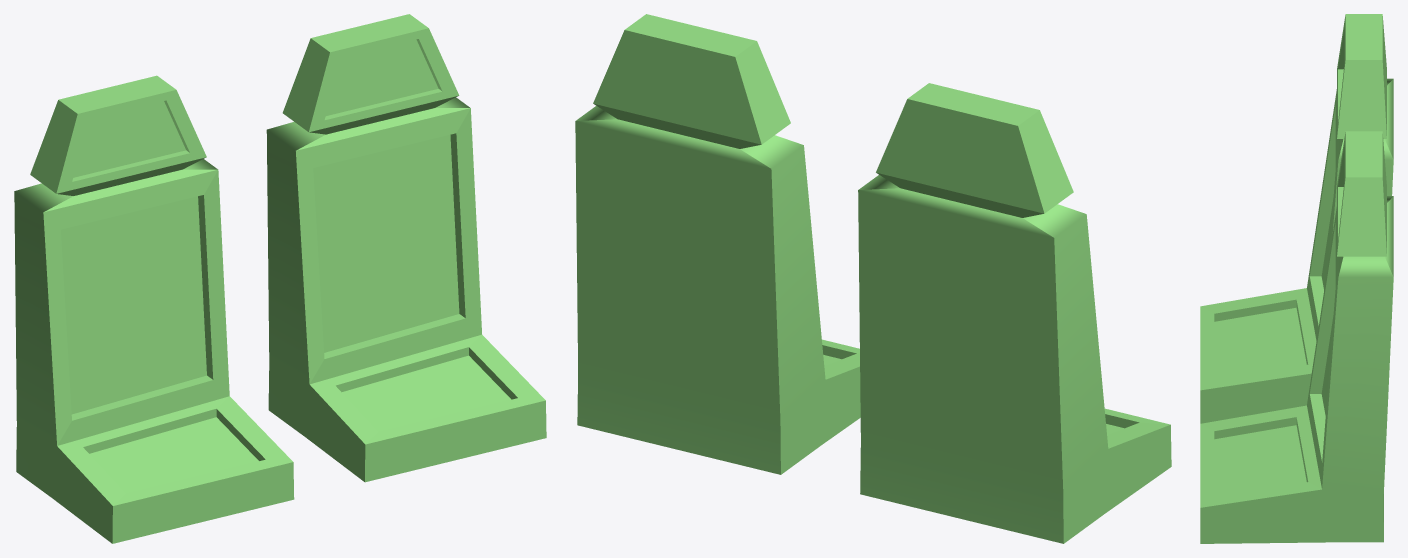
The picture shows the model from 3 angles, left to right: view 1: azimuth 30°, elevation 25°; view 2: azimuth 150°, elevation 25°; view 3: azimuth 270°, elevation 25°; orthographic projection. The views are drawn at different scales.
Parts seen in each view (by area): view 1: pCube4; view 2: pCube4; view 3: pCube4.
Part boxes in pixels (x1,y1,x2,y2): pCube4: (14, 14, 546, 543); pCube4: (575, 14, 1171, 543); pCube4: (1200, 14, 1393, 543).
Size of the model in its own units: 7.17 by 5.74 by 2.9.
